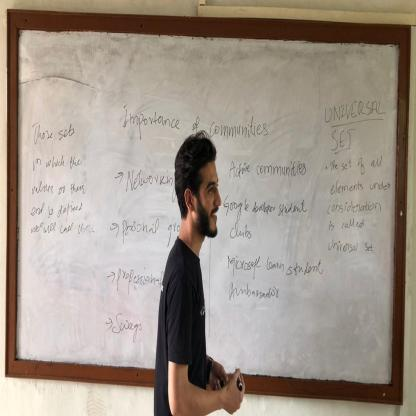Handwritten text: (121, 97, 269, 149), (221, 189, 309, 242), (224, 250, 327, 281), (227, 153, 308, 187), (120, 212, 184, 251), (125, 161, 180, 204), (320, 92, 386, 124), (115, 260, 164, 300), (226, 278, 282, 312), (31, 115, 77, 150), (29, 217, 96, 240), (30, 151, 85, 178), (28, 175, 89, 199), (327, 176, 393, 198), (25, 196, 85, 219), (327, 156, 385, 179), (112, 307, 144, 348), (324, 234, 374, 259), (325, 197, 384, 215), (328, 124, 356, 155), (325, 216, 370, 235)
Lecturer: (151, 128, 238, 390)
Whiteboard: (0, 23, 408, 389)
